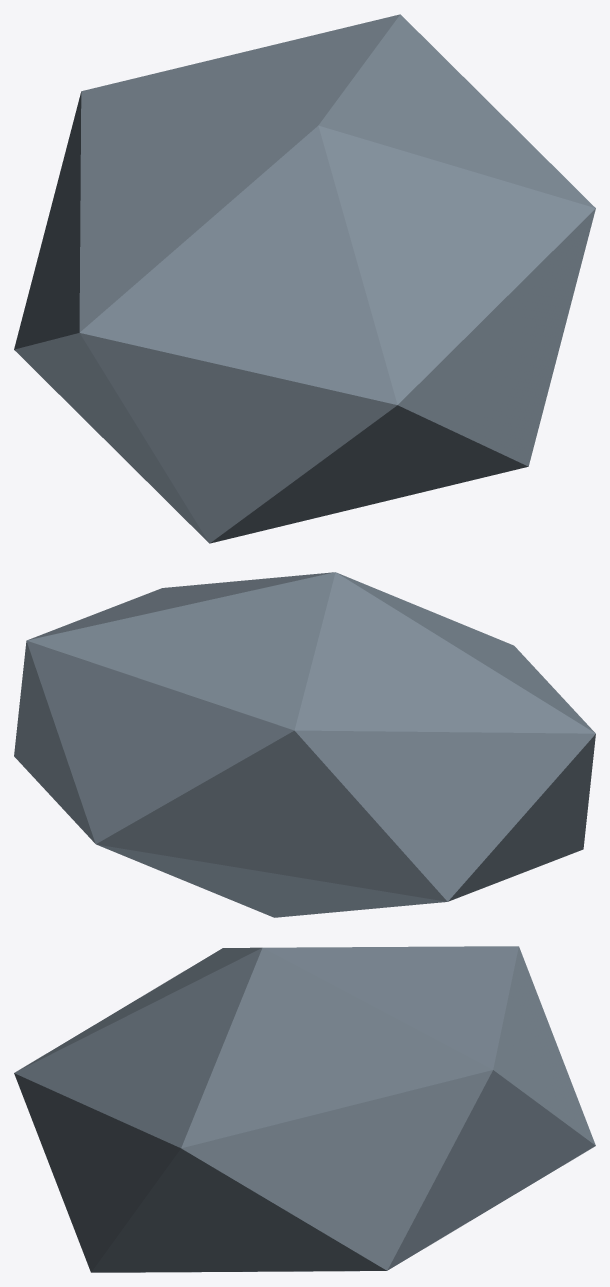
Rendered from INT_C_WallRubble_01_Stone_3.glb.
3 renders of one model, top to bottom at view 1: azimuth 30°, elevation 25°; view 2: azimuth 150°, elevation 25°; view 3: azimuth 270°, elevation 25°, orthographic. The views are drawn at different scales.
Visible parts, largest first — view 1: INT_C_WallRubble_01_Stone_3; view 2: INT_C_WallRubble_01_Stone_3; view 3: INT_C_WallRubble_01_Stone_3.
Part boxes in pixels (bbox=[...]): INT_C_WallRubble_01_Stone_3: bbox=[14, 14, 595, 543]; INT_C_WallRubble_01_Stone_3: bbox=[14, 572, 595, 917]; INT_C_WallRubble_01_Stone_3: bbox=[14, 946, 595, 1272].
Size of the model in its own units: 0.2922 by 0.1784 by 0.299.
